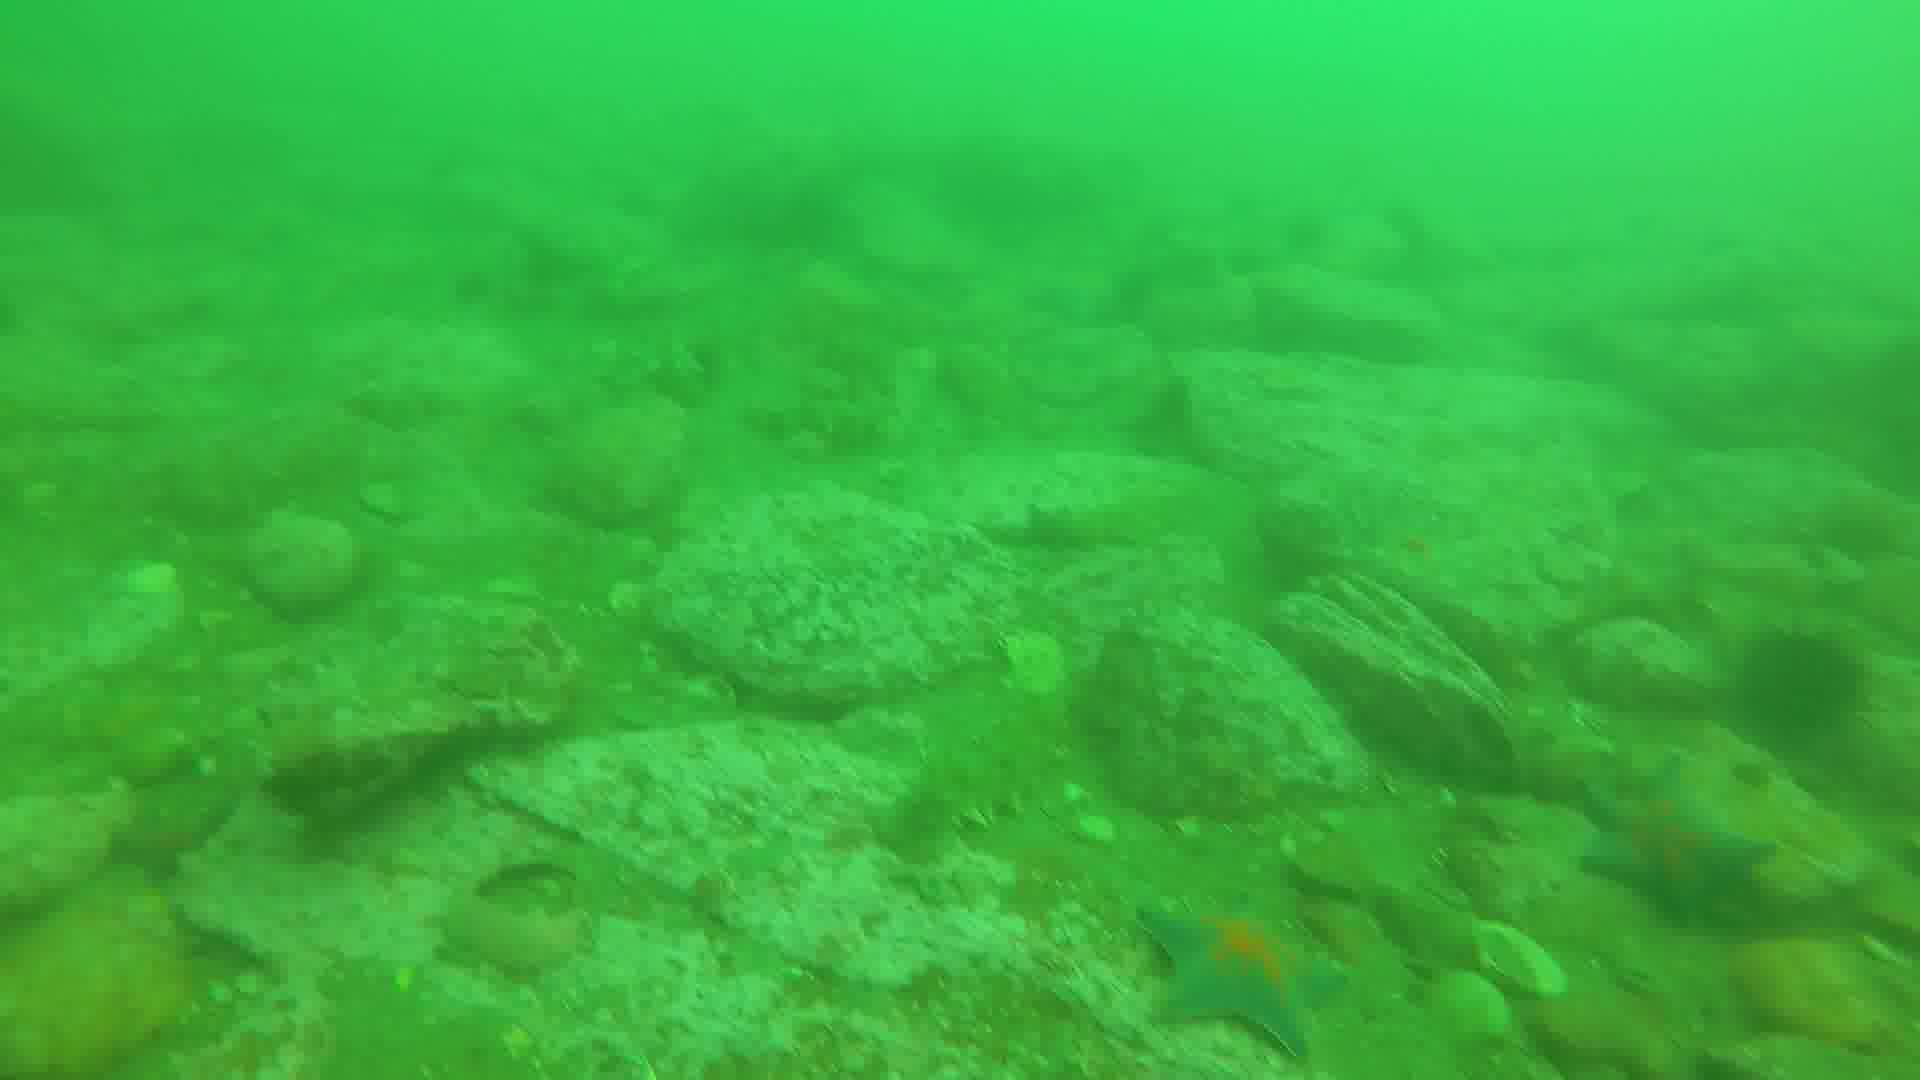echinus: (1749, 633, 1876, 754)
holothurian: (891, 692, 1065, 858)
scallop: (1425, 920, 1569, 1051)
starfish: (1138, 893, 1349, 1058), (1580, 764, 1771, 927)
